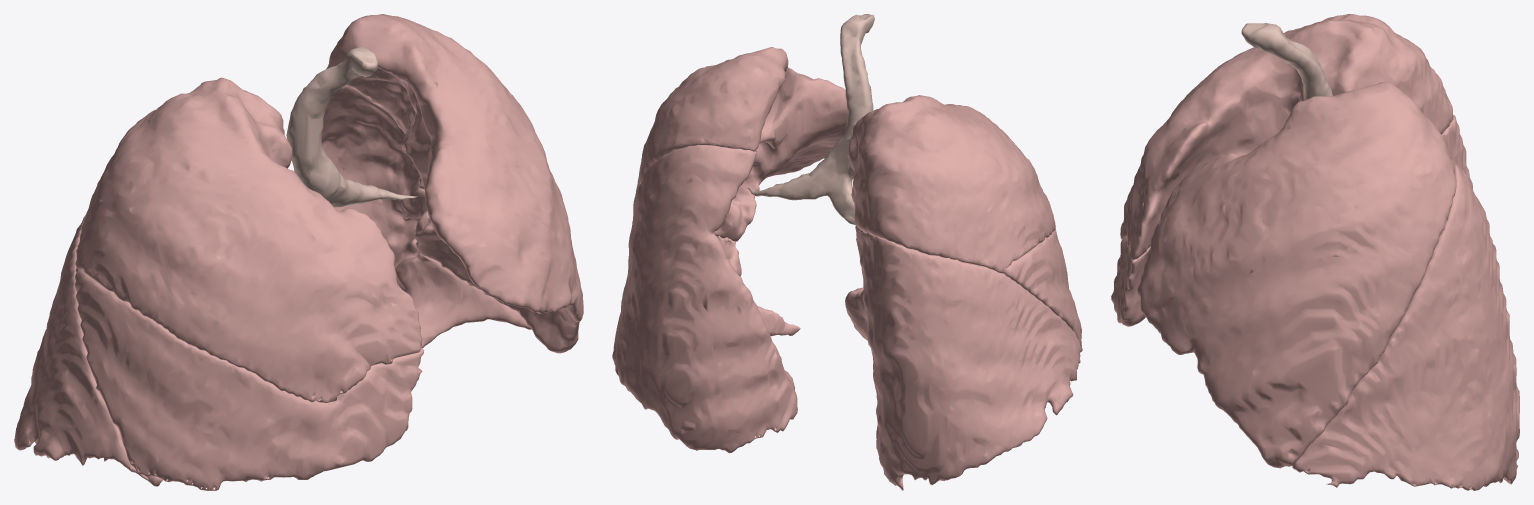
The model's file is tsd_s0196_older_adult_female.respiratory.LOD1.glb.
The picture shows the model from 3 angles, left to right: view 1: azimuth 30°, elevation 25°; view 2: azimuth 150°, elevation 25°; view 3: azimuth 270°, elevation 25°; orthographic projection. The views are drawn at different scales.
Visible parts, largest first — view 1: TSD_S0196.OLDER_ADULT.FEMALE.RESPIRATORY.SUPERIOR_LOBE_OF_RI, TSD_S0196.OLDER_ADULT.FEMALE.RESPIRATORY.SUPERIOR_LOBE_OF_LE, TSD_S0196.OLDER_ADULT.FEMALE.RESPIRATORY.MIDDLE_LOBE_OF_RIGH, TSD_S0196.OLDER_ADULT.FEMALE.RESPIRATORY.INFERIOR_LOBE_OF_LE, TSD_S0196.OLDER_ADULT.FEMALE.RESPIRATORY.INFERIOR_LOBE_OF_RI, TSD_S0196.OLDER_ADULT.FEMALE.RESPIRATORY.TRACHEA; view 2: TSD_S0196.OLDER_ADULT.FEMALE.RESPIRATORY.INFERIOR_LOBE_OF_RI, TSD_S0196.OLDER_ADULT.FEMALE.RESPIRATORY.INFERIOR_LOBE_OF_LE, TSD_S0196.OLDER_ADULT.FEMALE.RESPIRATORY.SUPERIOR_LOBE_OF_RI, TSD_S0196.OLDER_ADULT.FEMALE.RESPIRATORY.SUPERIOR_LOBE_OF_LE, TSD_S0196.OLDER_ADULT.FEMALE.RESPIRATORY.TRACHEA, TSD_S0196.OLDER_ADULT.FEMALE.RESPIRATORY.MIDDLE_LOBE_OF_RIGH; view 3: TSD_S0196.OLDER_ADULT.FEMALE.RESPIRATORY.SUPERIOR_LOBE_OF_LE, TSD_S0196.OLDER_ADULT.FEMALE.RESPIRATORY.INFERIOR_LOBE_OF_LE, TSD_S0196.OLDER_ADULT.FEMALE.RESPIRATORY.SUPERIOR_LOBE_OF_RI, TSD_S0196.OLDER_ADULT.FEMALE.RESPIRATORY.TRACHEA, TSD_S0196.OLDER_ADULT.FEMALE.RESPIRATORY.MIDDLE_LOBE_OF_RIGH, TSD_S0196.OLDER_ADULT.FEMALE.RESPIRATORY.INFERIOR_LOBE_OF_RI.
Boxes of the visible parts, x1=… form: TSD_S0196.OLDER_ADULT.FEMALE.RESPIRATORY.SUPERIOR_LOBE_OF_RI: x1=75, y1=77, x2=422, y2=402; TSD_S0196.OLDER_ADULT.FEMALE.RESPIRATORY.SUPERIOR_LOBE_OF_LE: x1=326, y1=14, x2=583, y2=353; TSD_S0196.OLDER_ADULT.FEMALE.RESPIRATORY.MIDDLE_LOBE_OF_RIGH: x1=75, y1=269, x2=424, y2=490; TSD_S0196.OLDER_ADULT.FEMALE.RESPIRATORY.INFERIOR_LOBE_OF_LE: x1=321, y1=85, x2=531, y2=348; TSD_S0196.OLDER_ADULT.FEMALE.RESPIRATORY.INFERIOR_LOBE_OF_RI: x1=14, y1=209, x2=162, y2=486; TSD_S0196.OLDER_ADULT.FEMALE.RESPIRATORY.TRACHEA: x1=286, y1=46, x2=418, y2=207; TSD_S0196.OLDER_ADULT.FEMALE.RESPIRATORY.INFERIOR_LOBE_OF_RI: x1=845, y1=225, x2=1082, y2=490; TSD_S0196.OLDER_ADULT.FEMALE.RESPIRATORY.INFERIOR_LOBE_OF_LE: x1=612, y1=144, x2=800, y2=453; TSD_S0196.OLDER_ADULT.FEMALE.RESPIRATORY.SUPERIOR_LOBE_OF_RI: x1=847, y1=95, x2=1055, y2=273; TSD_S0196.OLDER_ADULT.FEMALE.RESPIRATORY.SUPERIOR_LOBE_OF_LE: x1=635, y1=47, x2=848, y2=241; TSD_S0196.OLDER_ADULT.FEMALE.RESPIRATORY.TRACHEA: x1=747, y1=14, x2=874, y2=224; TSD_S0196.OLDER_ADULT.FEMALE.RESPIRATORY.MIDDLE_LOBE_OF_RIGH: x1=1004, y1=229, x2=1081, y2=347; TSD_S0196.OLDER_ADULT.FEMALE.RESPIRATORY.SUPERIOR_LOBE_OF_LE: x1=1137, y1=82, x2=1456, y2=468; TSD_S0196.OLDER_ADULT.FEMALE.RESPIRATORY.INFERIOR_LOBE_OF_LE: x1=1292, y1=160, x2=1519, y2=490; TSD_S0196.OLDER_ADULT.FEMALE.RESPIRATORY.SUPERIOR_LOBE_OF_RI: x1=1120, y1=14, x2=1452, y2=260; TSD_S0196.OLDER_ADULT.FEMALE.RESPIRATORY.TRACHEA: x1=1241, y1=23, x2=1332, y2=100; TSD_S0196.OLDER_ADULT.FEMALE.RESPIRATORY.MIDDLE_LOBE_OF_RIGH: x1=1111, y1=238, x2=1150, y2=326; TSD_S0196.OLDER_ADULT.FEMALE.RESPIRATORY.INFERIOR_LOBE_OF_RI: x1=1441, y1=114, x2=1472, y2=188.
Bounding box in the file's own units: 0.255 × 0.2143 × 0.1829.
